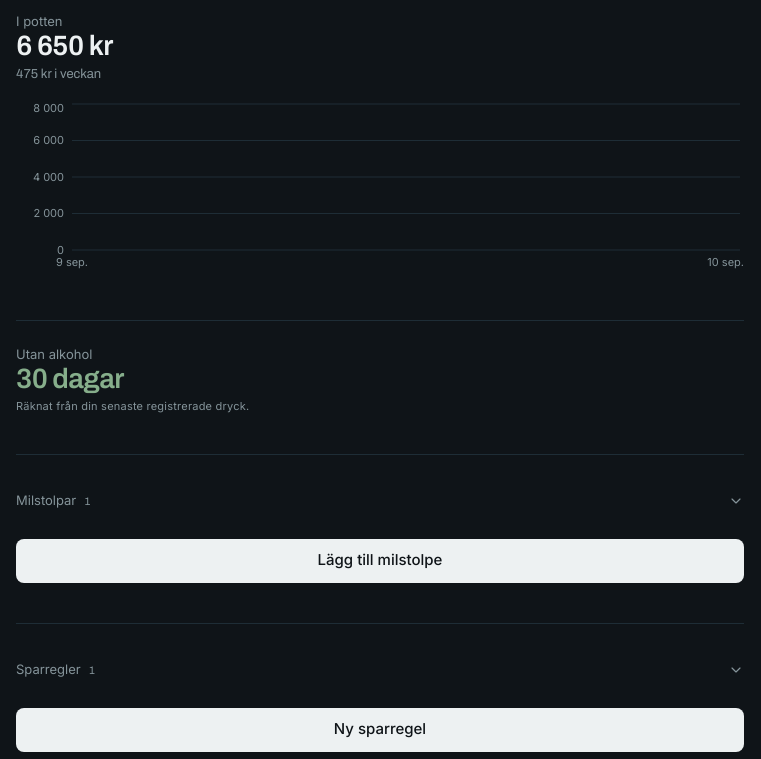
it: Framsteg › keeps the retroactive note beside the rules
The width and height of the screenshot is (761, 759).
(page scrolled)
Click the button with test id "savings-rules".
click(48, 669)  # box [16,648,744,692]
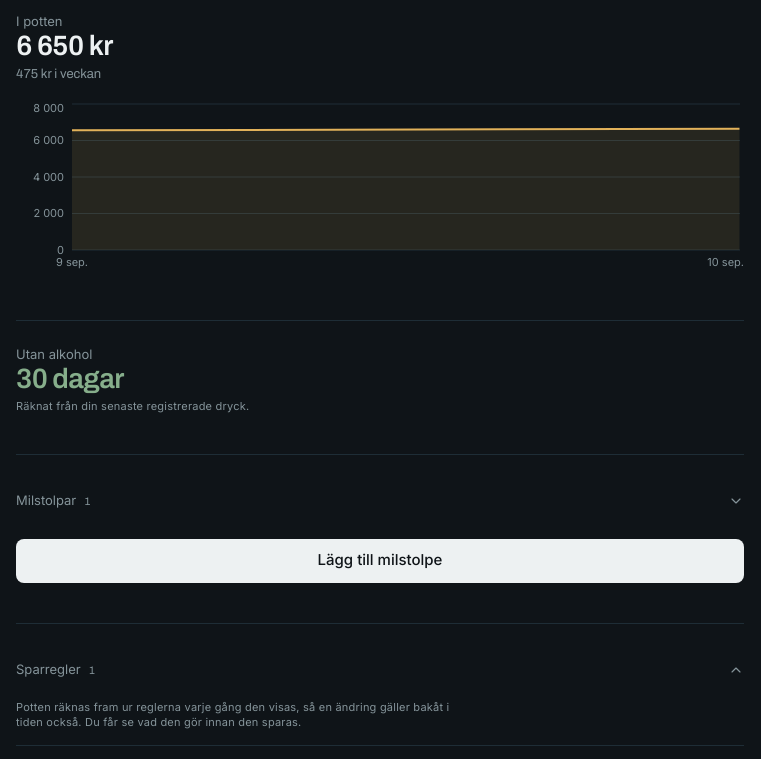
expect the text "Potten räknas fram ur reglerna varje gång den visas, så en ändring gäller bakåt i tiden också. Du får se vad den gör inn" is shown: met, box [16,700,450,728]
